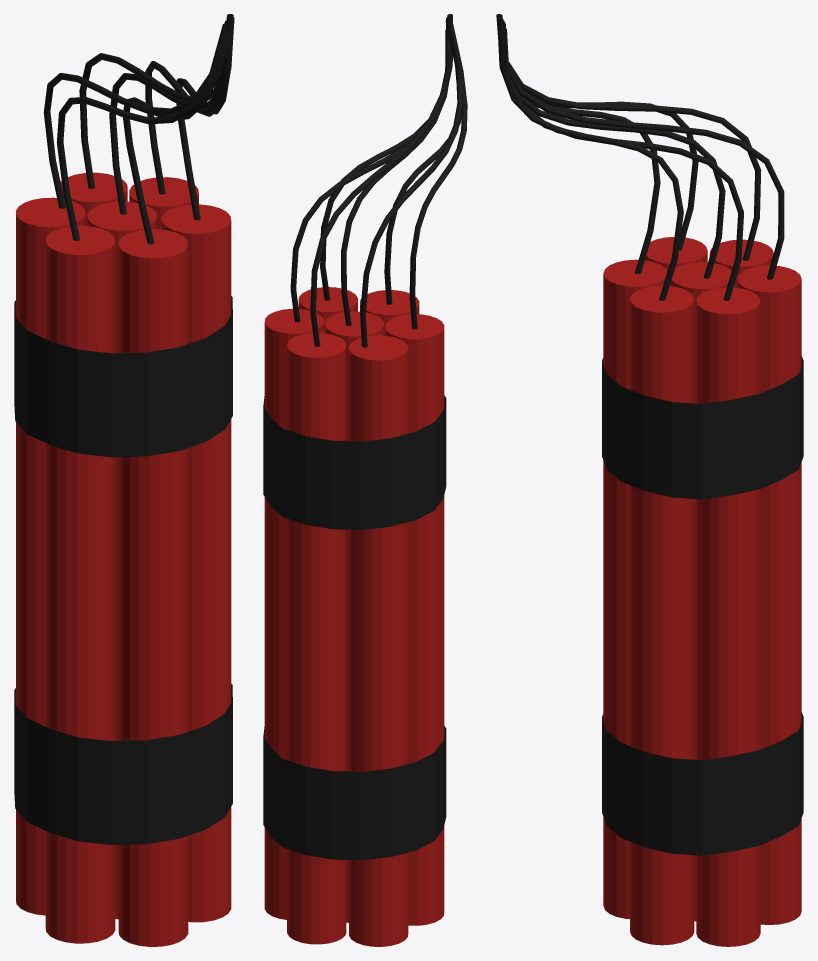
Rendered from Mine_Dynamite.fbx.
3 views of the same model, side by side, from view 1: azimuth 30°, elevation 25°; view 2: azimuth 150°, elevation 25°; view 3: azimuth 270°, elevation 25° (orthographic). The views are drawn at different scales.
Visible parts, largest first — view 1: Dynamite; view 2: Dynamite; view 3: Dynamite.
Part boxes in pixels (x1,y1,x2,y2): Dynamite: [14, 14, 234, 946]; Dynamite: [263, 14, 467, 946]; Dynamite: [496, 14, 803, 946].
Bounding box in the file's own units: 13.25 × 63.74 × 19.9.
